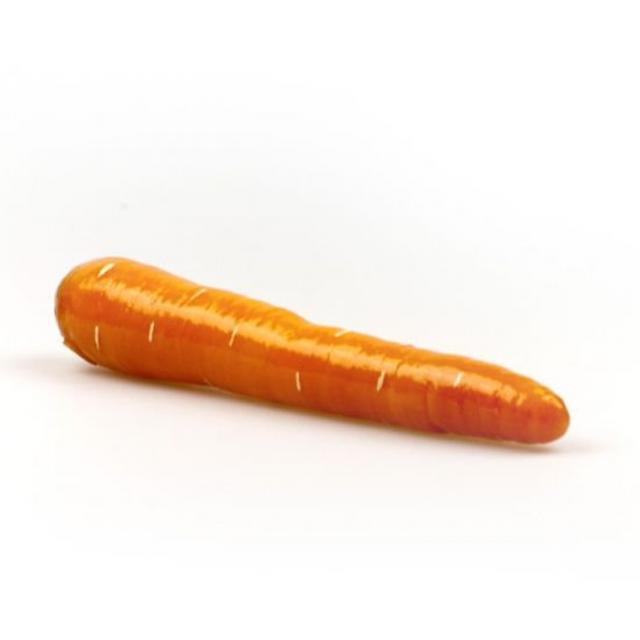Carrot: (53, 254, 574, 449)
